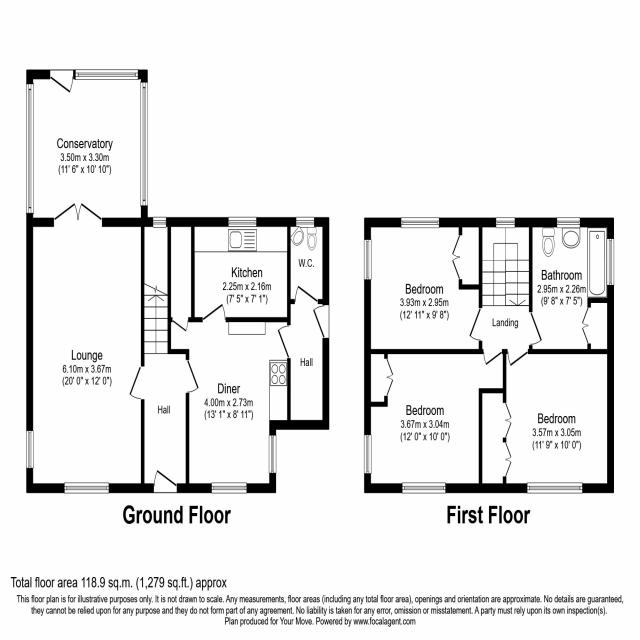DOOR: (311, 303, 329, 341), (127, 364, 145, 401), (153, 468, 178, 493), (185, 358, 200, 395), (276, 324, 291, 360), (468, 306, 482, 342), (529, 310, 543, 346), (294, 284, 319, 304), (202, 302, 226, 322), (507, 349, 528, 367), (482, 349, 503, 367), (171, 317, 189, 333)
DOUBLE DOOR: (53, 201, 103, 227)
ROOM: (26, 201, 145, 493), (167, 303, 291, 493), (364, 349, 507, 493), (478, 349, 614, 494), (364, 217, 483, 354), (191, 217, 291, 322)
WINDOW: (526, 482, 583, 494), (63, 482, 110, 494), (402, 482, 446, 494), (400, 216, 440, 229), (211, 481, 248, 495), (606, 238, 615, 286), (363, 239, 372, 281), (268, 434, 277, 475), (363, 434, 372, 474), (25, 430, 34, 469), (228, 216, 257, 228), (556, 217, 580, 229), (495, 217, 515, 229), (296, 216, 315, 228), (153, 216, 166, 228)
